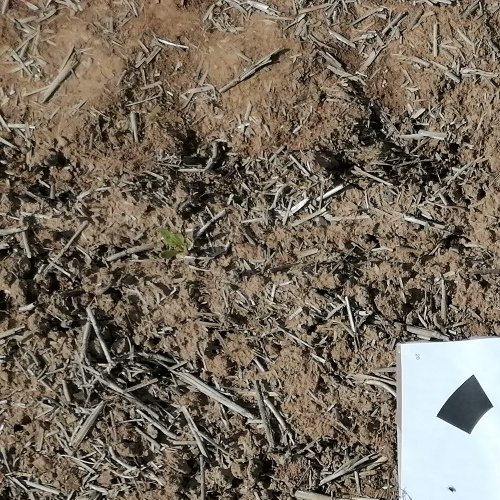beet: (152, 224, 200, 255)
